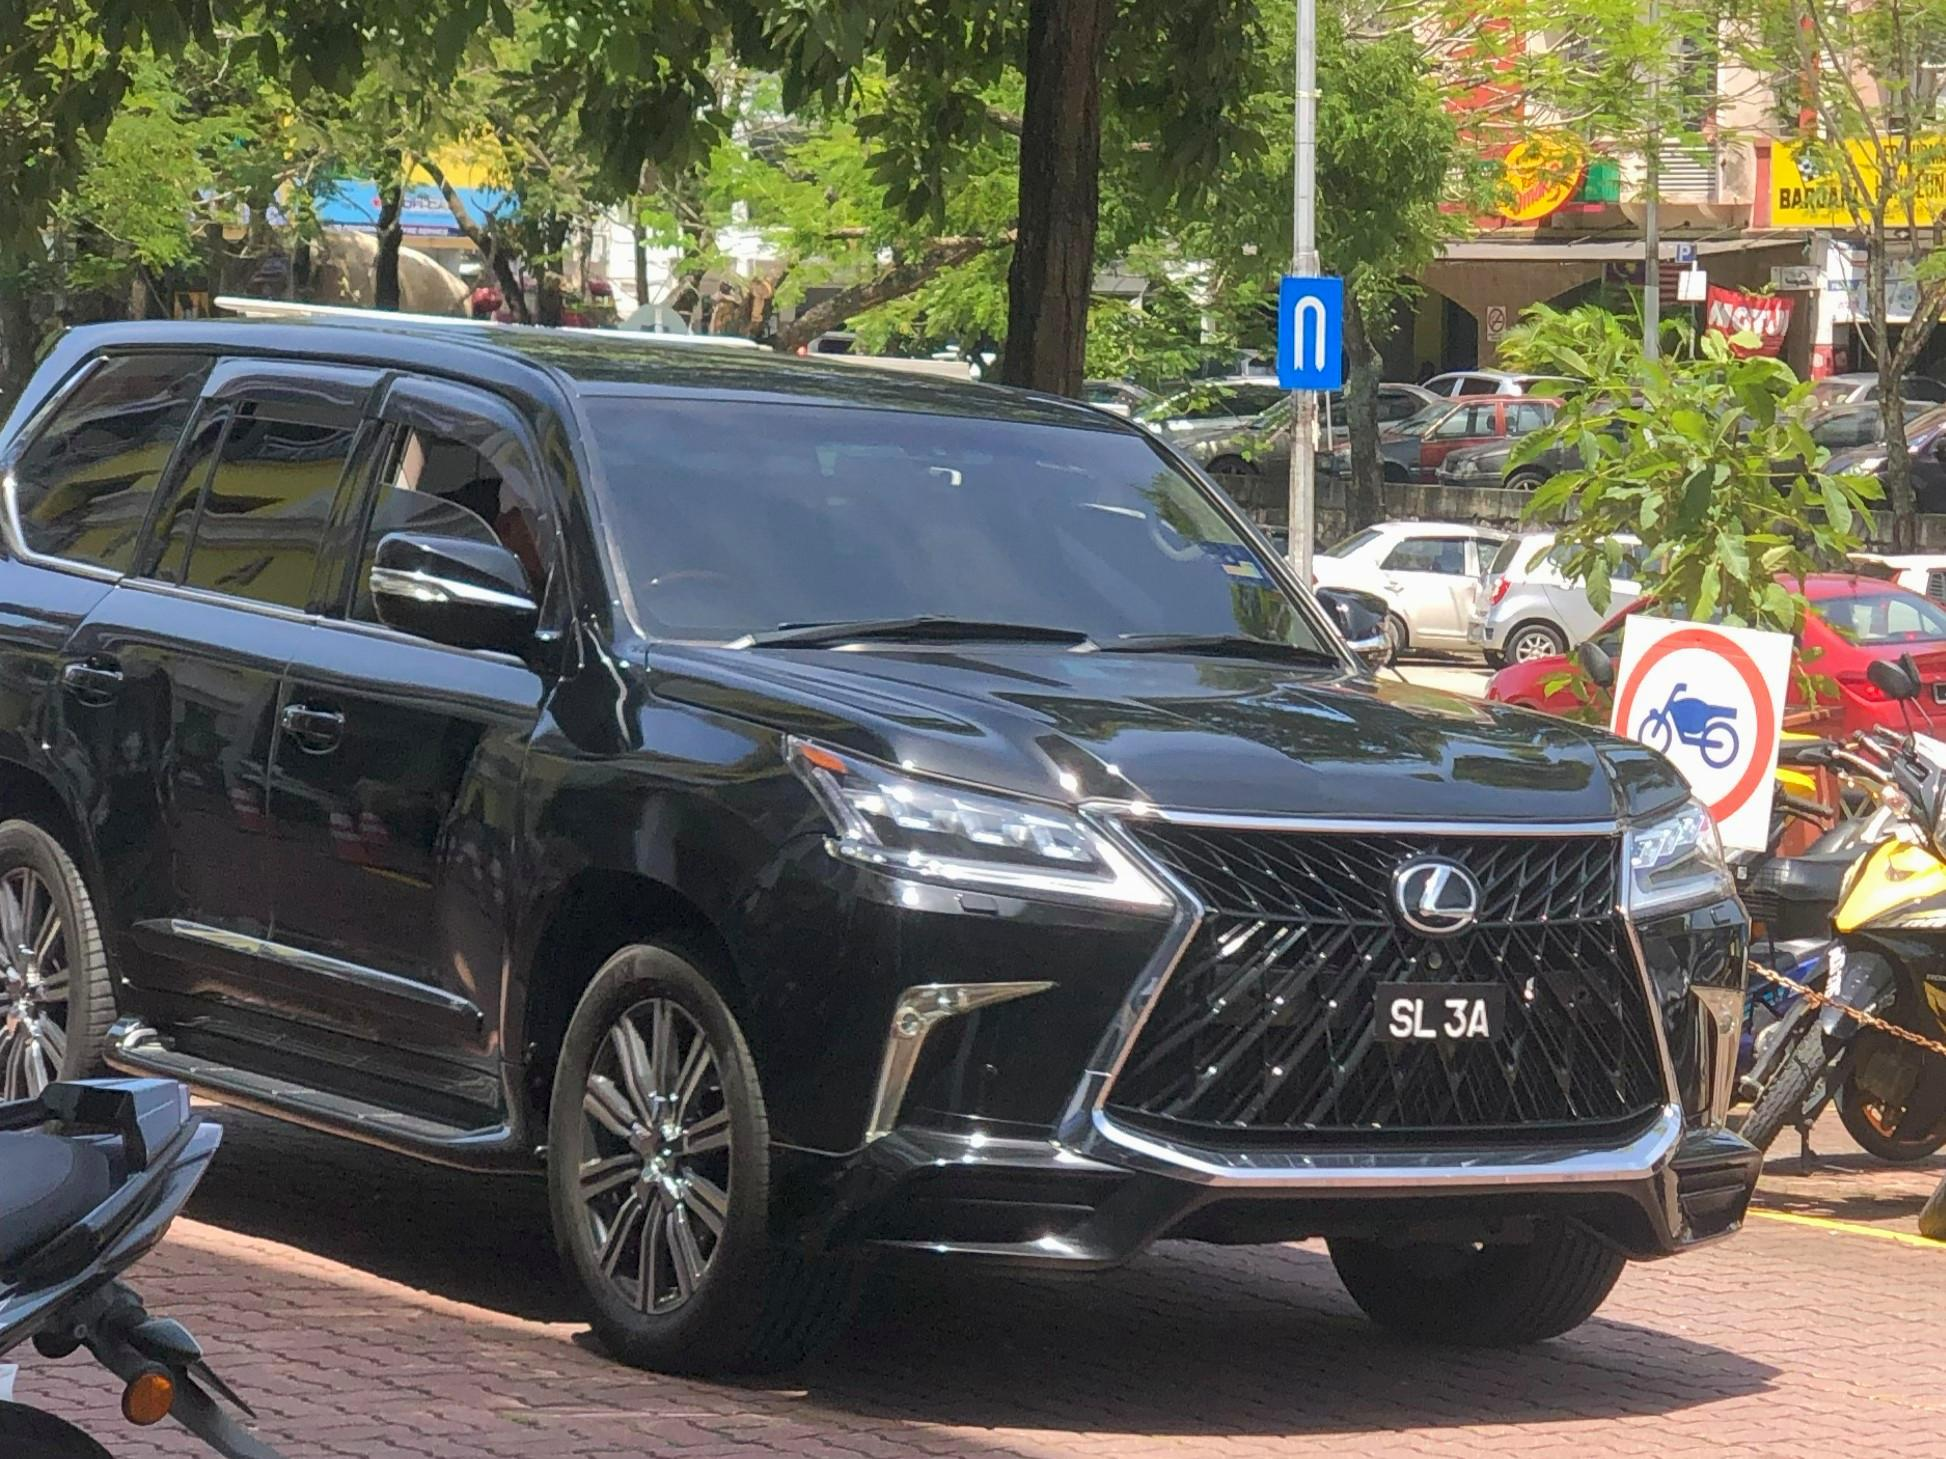License Plate: (1382, 981, 1512, 1042)
